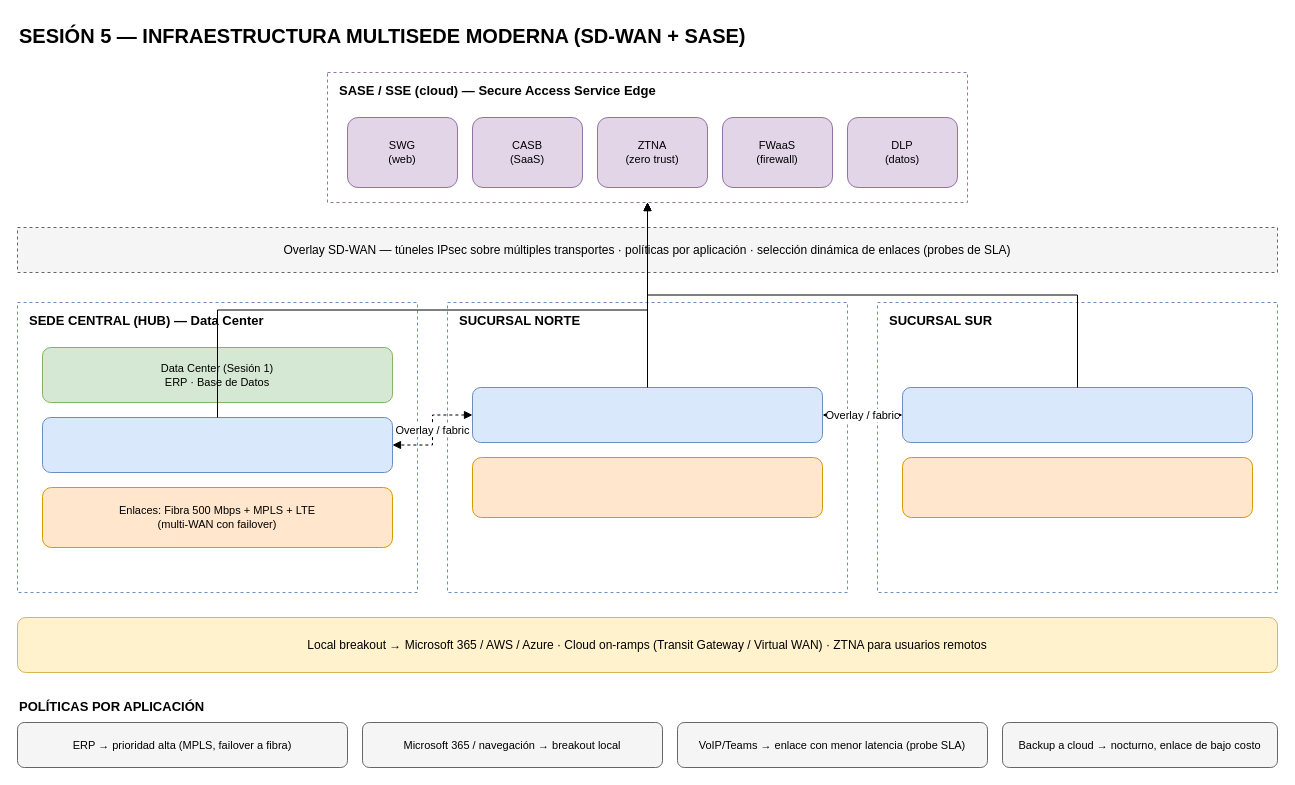
Image size: 1295x785. Some labels were removed from this diagram. Here are the shapes that lost their labels. From the top down, the centre of each, then its label:
point (647, 414): SD-WAN edge (vCPE) 60 usuarios
point (1077, 414): SD-WAN edge (vCPE) 20 usuarios
point (217, 444): SD-WAN edge (HW / cEdge) Zero-Touch Provisioning
point (647, 487): Enlaces: Fibra 200 Mbps + 4G/5G (dual-WAN)
point (1077, 487): Enlaces: Fibra 100 Mbps + 5G (dual-WAN)
